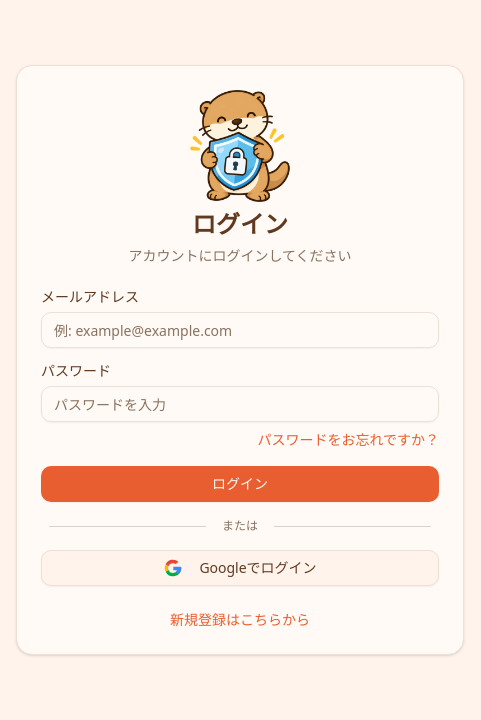
Test: LoginPage › 確認期限を過ぎていたら、エラーではなく入力したアドレスで確認メールの送り直しへ案内する
The image size is (481, 720).
Type "dev@example.com" into the field with id "email". click: coordinates (240, 330)
box: [41,312,439,348]
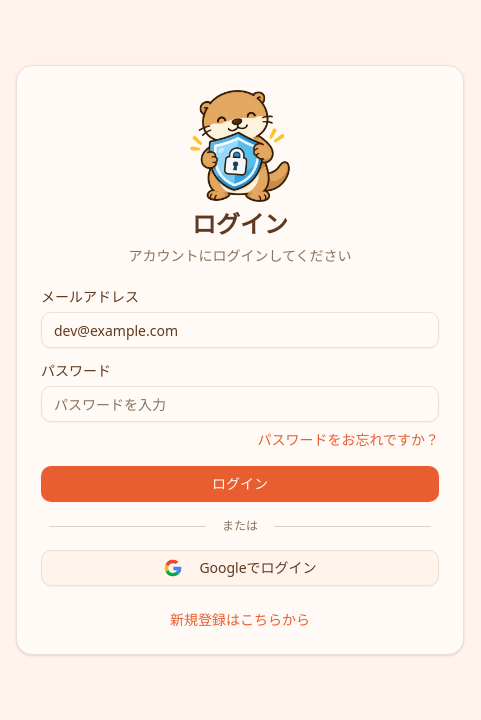
Type "wrong-password" into the password field labelled "パスワード". click: coordinates (240, 404)
box: [41,386,439,422]
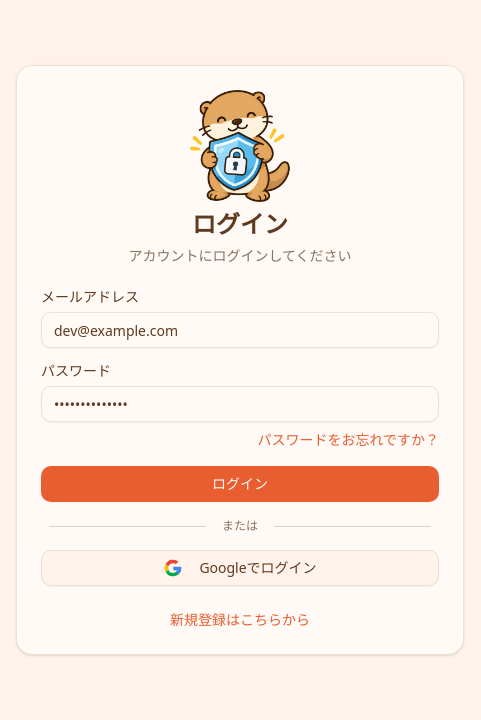
Click the button "ログイン". click: coordinates (240, 484)
box: [41,466,439,502]
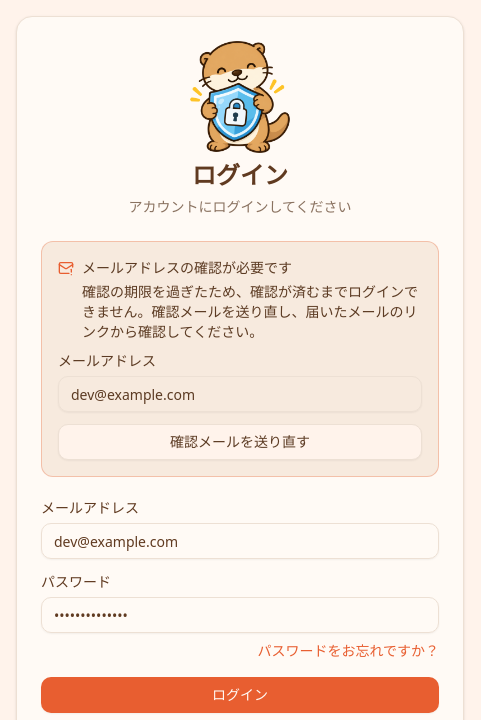
Expected: the text "メールアドレスの確認が必要です" is shown, [82,258,292,277]
Expected: the field labelled "メールアドレス" below "メールアドレスの確認が必要です" holds "dev@example.com", [58,376,422,412]
Expected: the button "確認メールを送り直す" is shown, [58,424,422,460]
